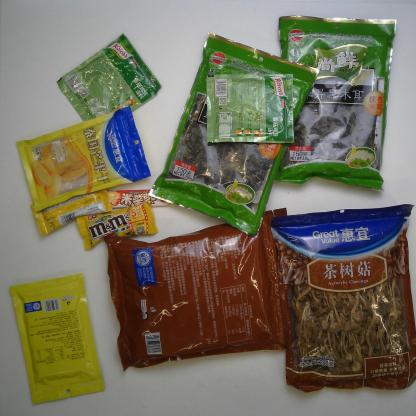Chocolate: (30, 187, 114, 236), (76, 201, 158, 250), (107, 190, 177, 209)
Dried Food: (147, 32, 319, 239), (103, 206, 289, 373), (268, 202, 416, 394), (278, 13, 402, 193)
Dried Fruit: (16, 104, 152, 214), (8, 272, 107, 406)
Seasoner: (56, 32, 162, 123), (206, 73, 295, 144)
